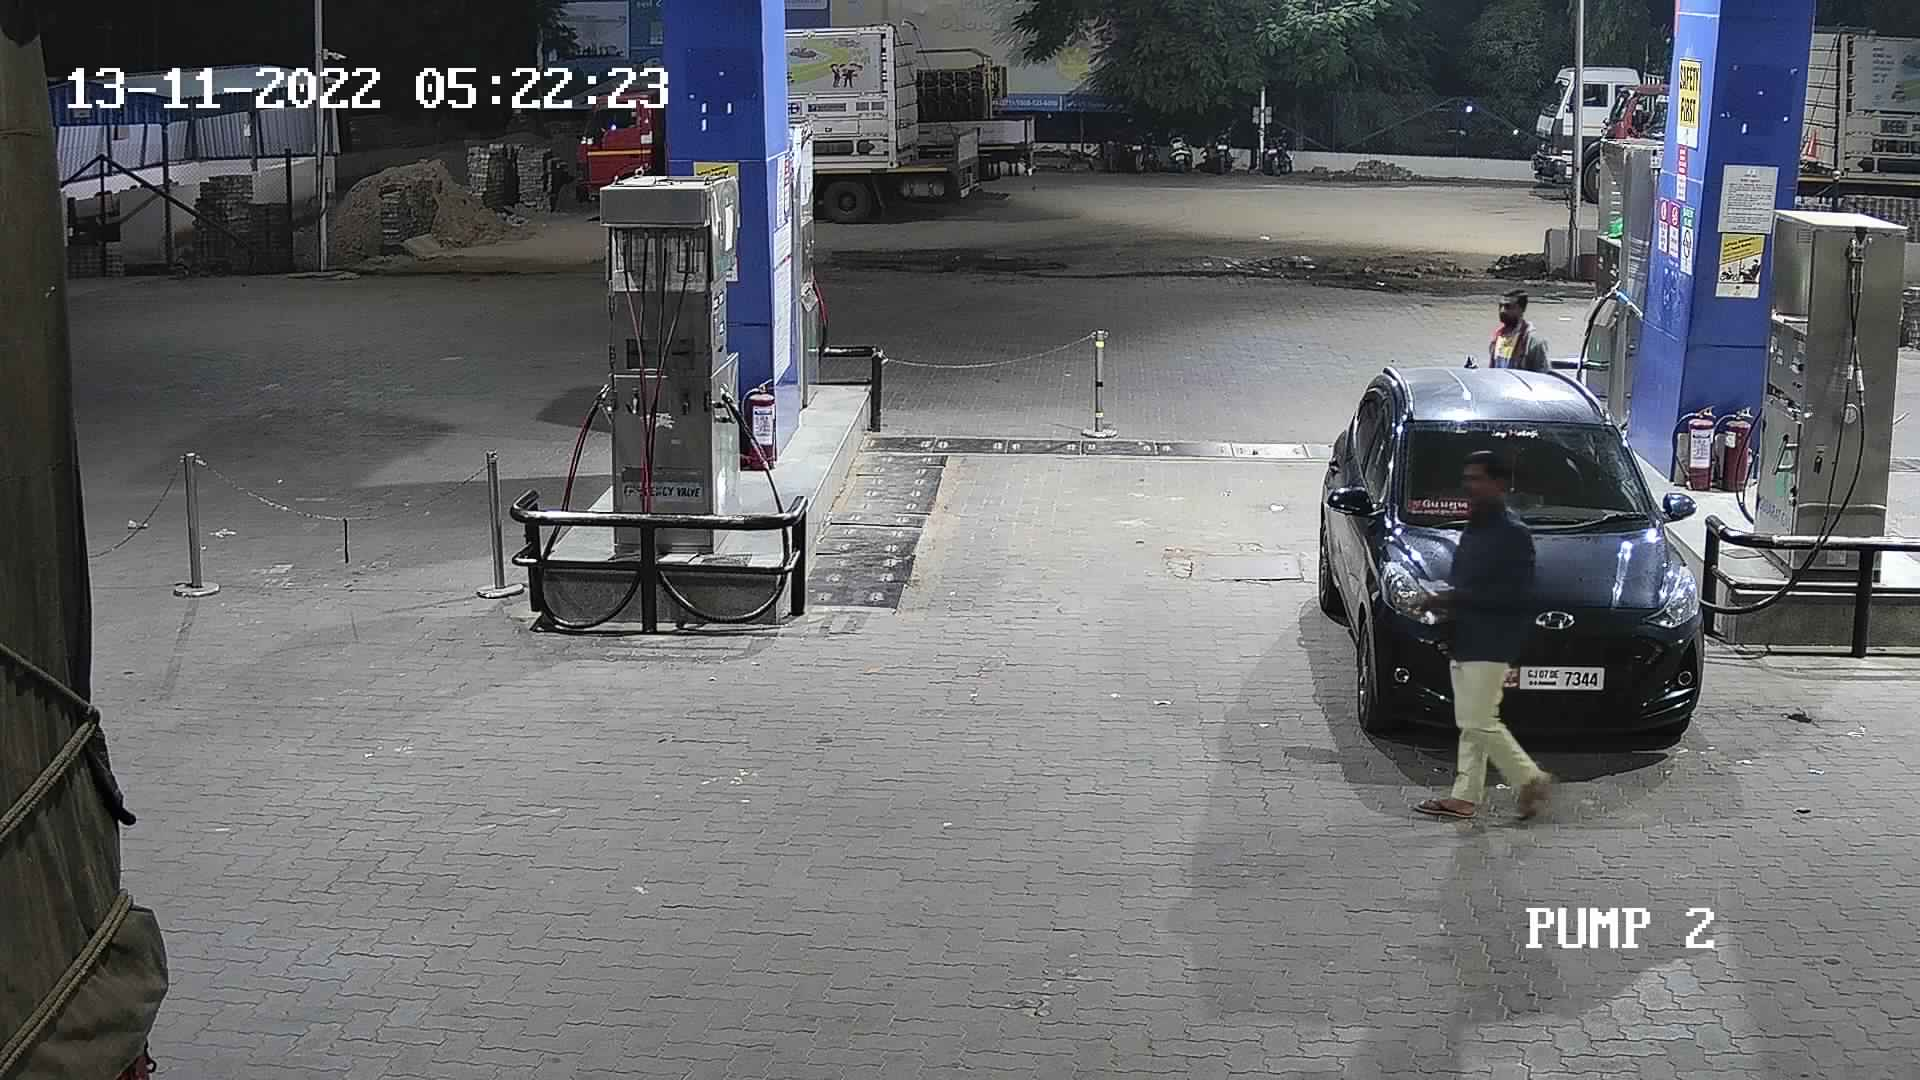Bike: (1255, 123, 1304, 179), (1200, 111, 1242, 173), (1120, 123, 1164, 175), (1164, 116, 1200, 179)
Car: (1307, 340, 1722, 773)
HMV: (0, 1, 189, 1076), (774, 12, 1000, 225), (1516, 38, 1673, 212), (1780, 8, 1917, 206), (895, 33, 1051, 186)
Others: (1455, 284, 1563, 373)
